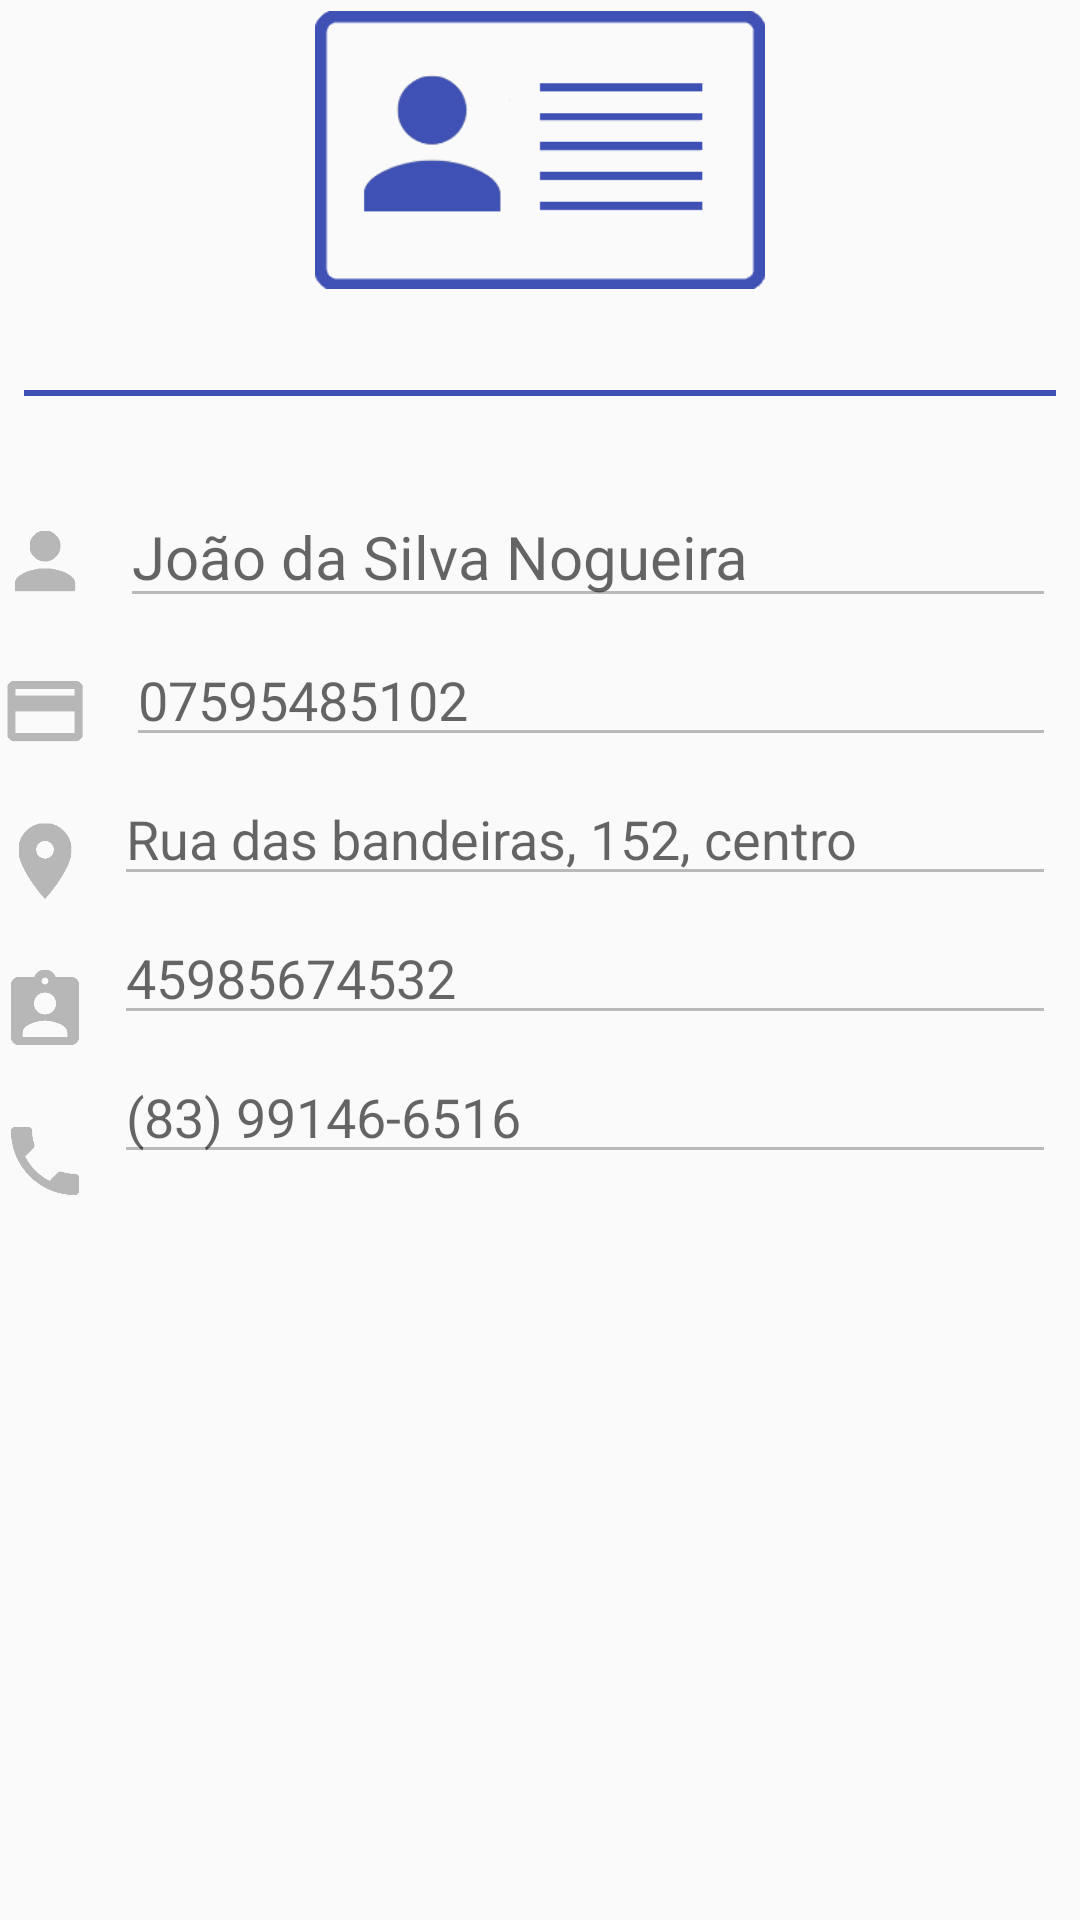

Icons on this 1080 × 1920 Android screen, each with the point to tap as [x,y]:
aluno: [45,561]
celular: [45,1161]
endereco: [45,861]
